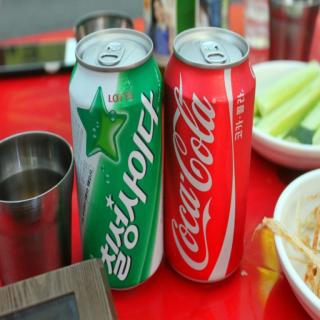cocacola: (68, 26, 163, 289)
